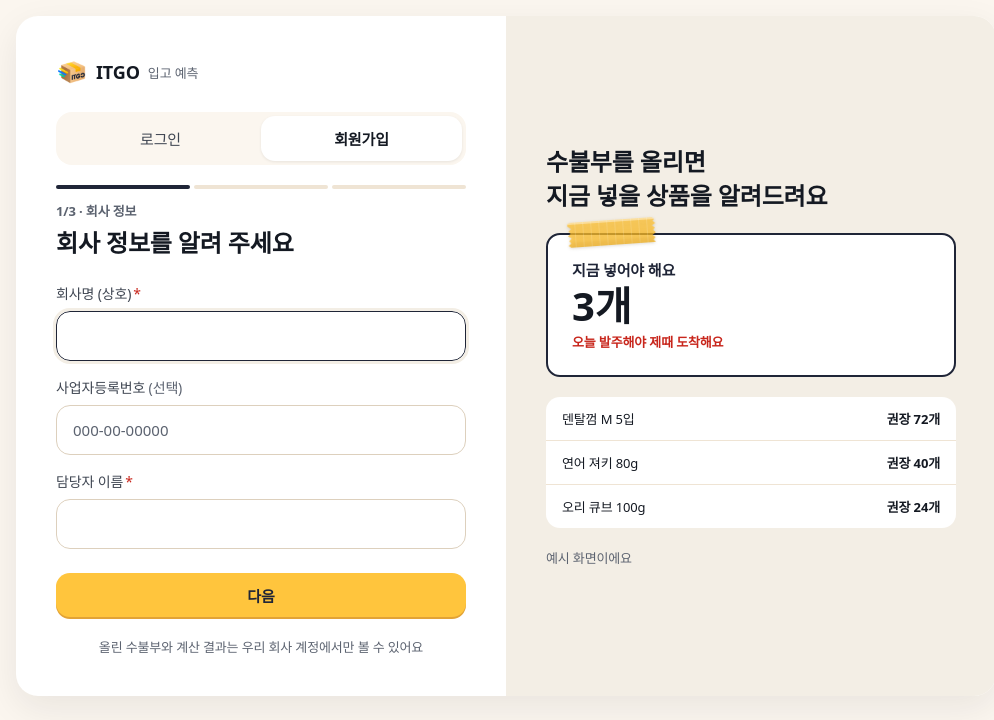
Test case: SignUpPage › 이미 가입한 이메일이면 안내하고 코드 입력 칸을 열지 않는다
The width and height of the screenshot is (994, 720).
Type "다음스낵" into the field labelled "회사명 (상호)" at [261, 336], box [56,311,466,361]
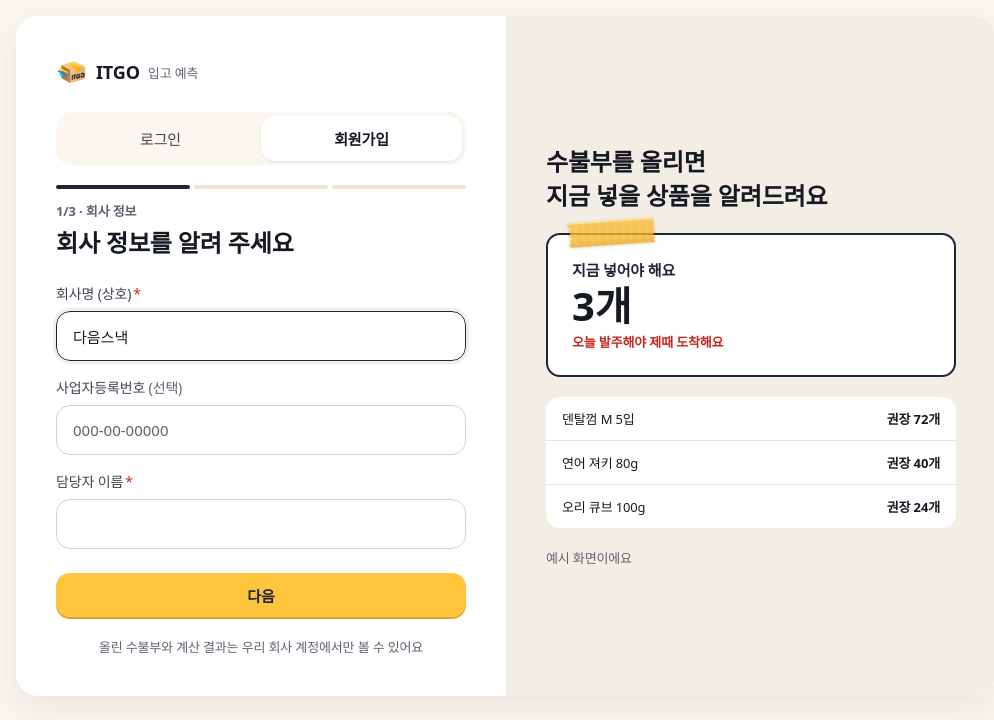
Type "김담당" into the field labelled "담당자 이름" at [261, 524], box [56,499,466,549]
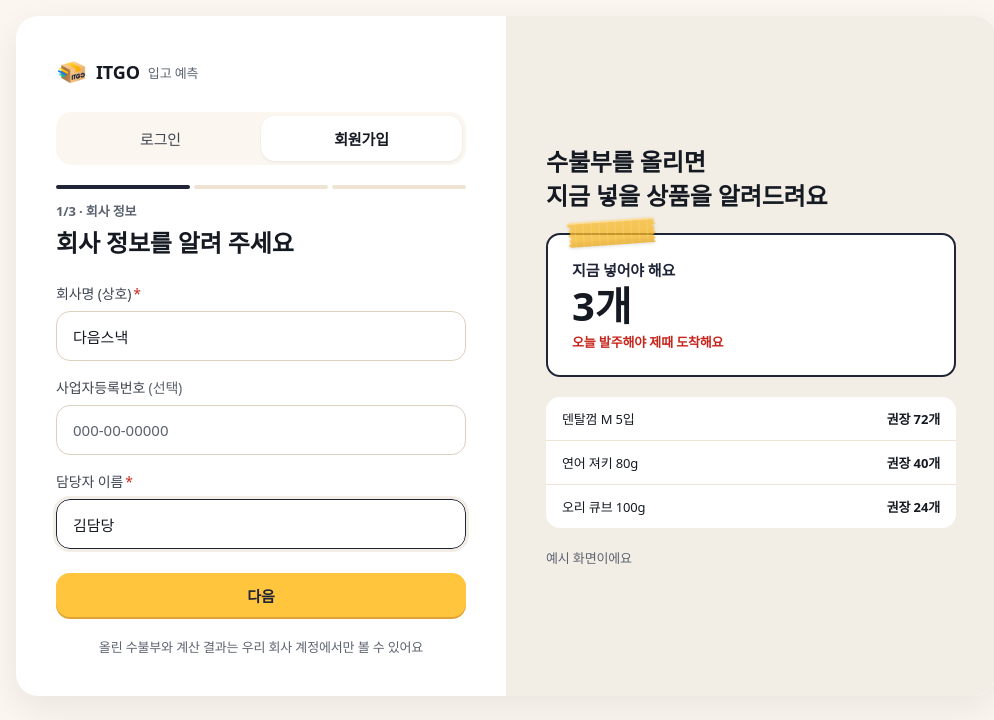
Click the button "다음" at [261, 595], box [56,573,466,617]
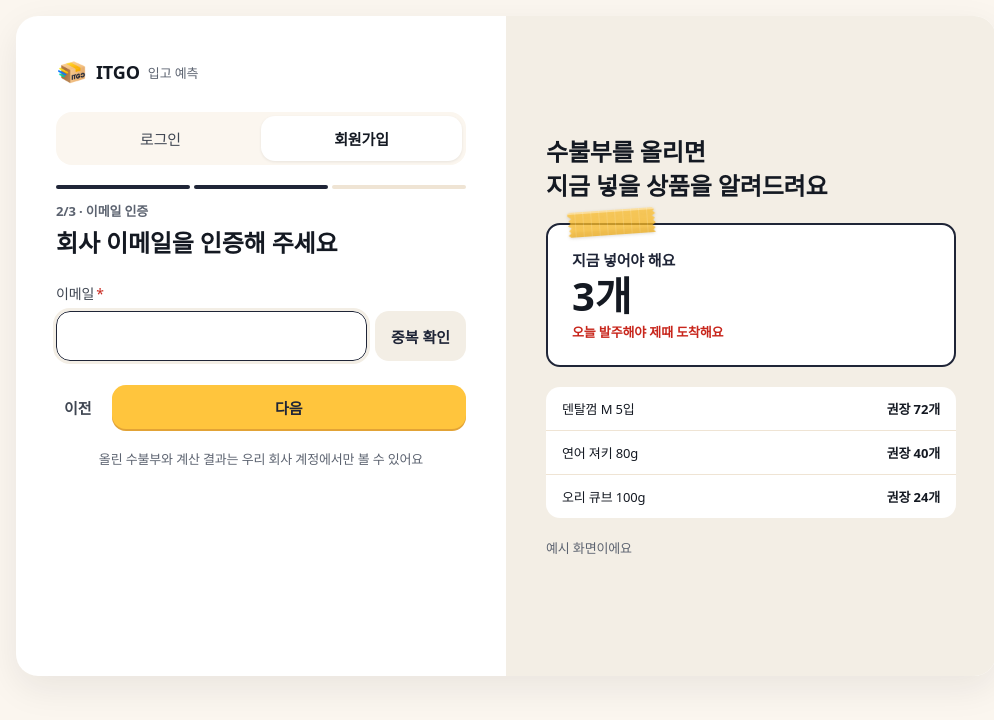
Type "seller@a.com" into the field labelled "이메일" at [211, 336], box [56,311,367,361]
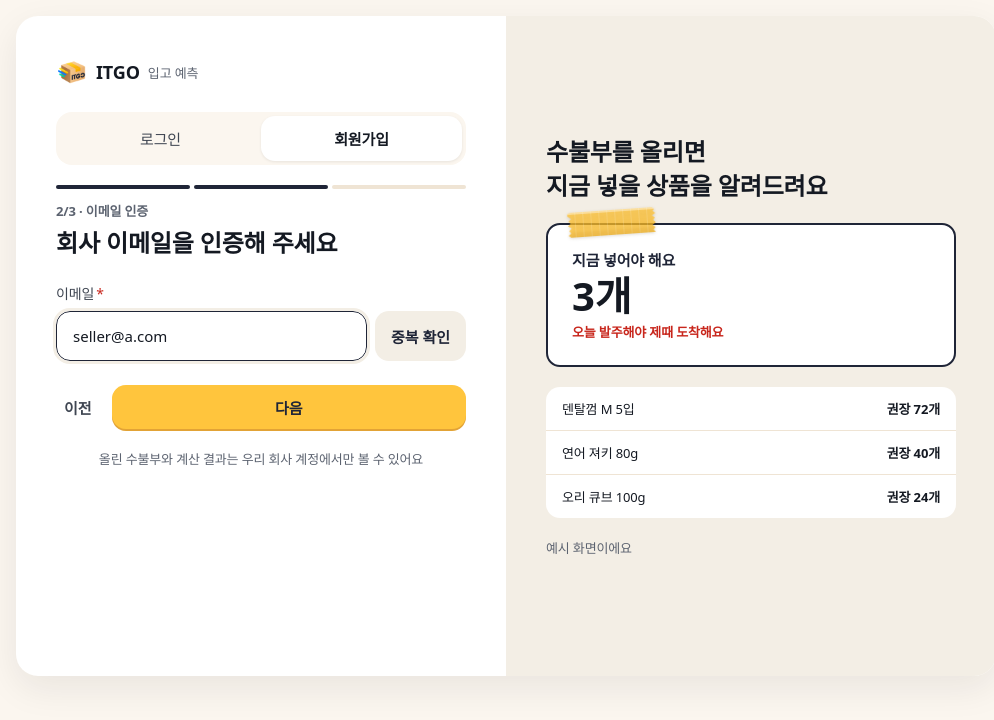
Click the button "중복 확인" at [420, 336], box [375,311,466,361]
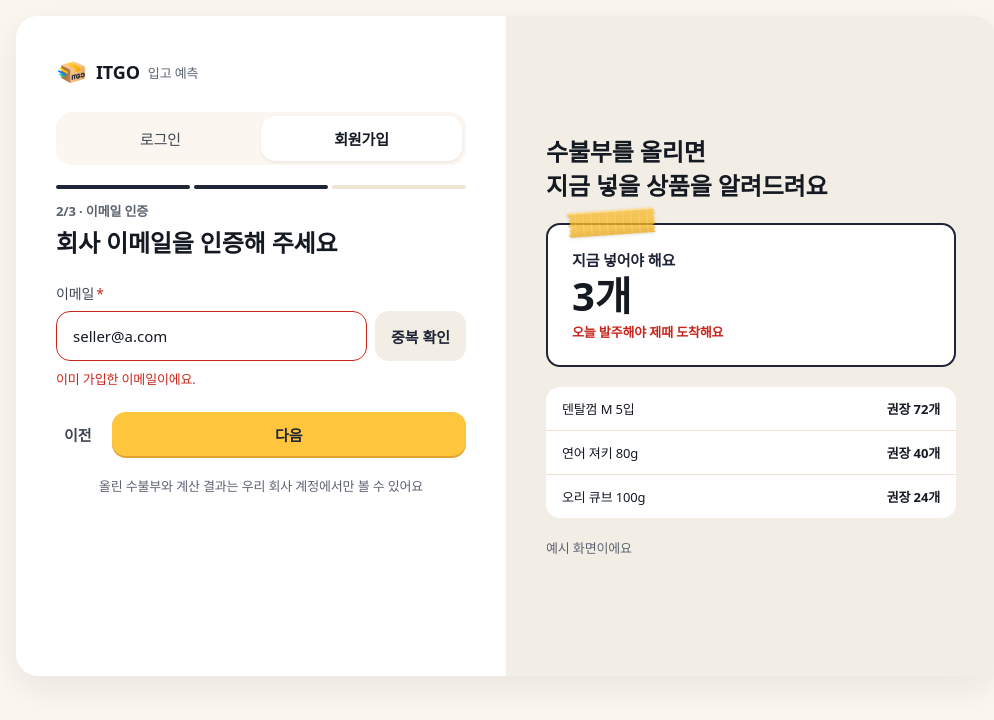
Expected: the text "이미 가입한 이메일이에요." is shown, [56,370,196,388]
